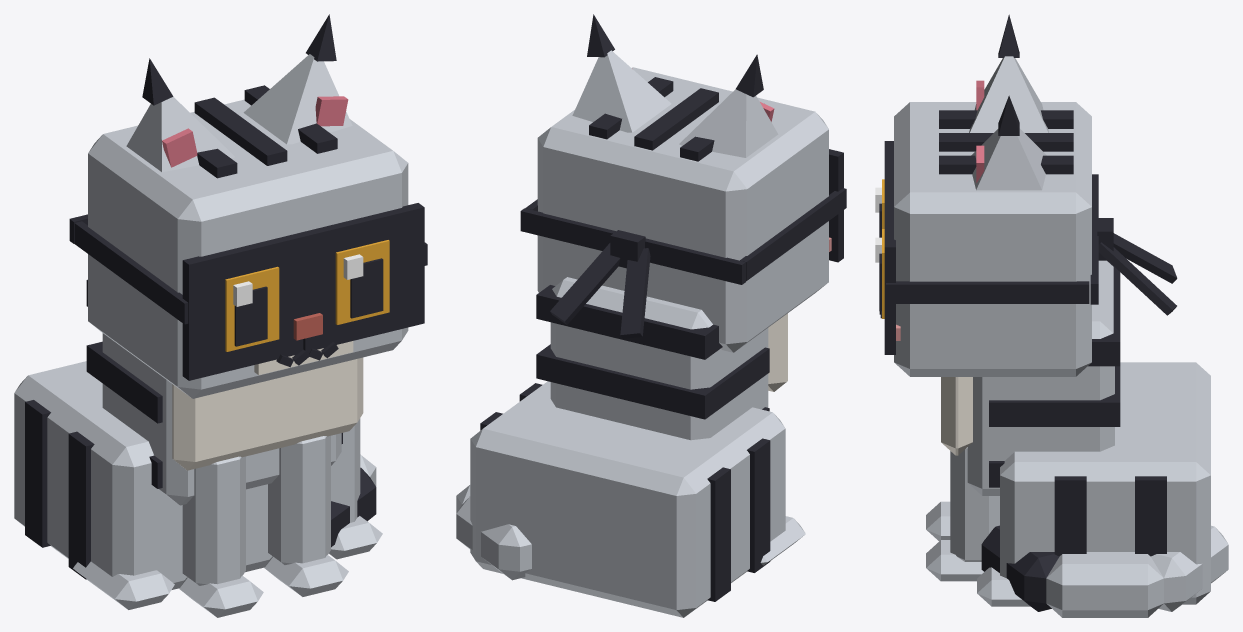
File: CatCafe_Cat_MaineCoon_Sit.glb
The picture shows the model from 3 angles, left to right: view 1: azimuth 30°, elevation 25°; view 2: azimuth 150°, elevation 25°; view 3: azimuth 270°, elevation 25°; orthographic projection. The views are drawn at different scales.
Visible parts, largest first — view 1: CatCafe_Cat_MaineCoon_Sit_Body, CatCafe_Cat_MaineCoon_Sit_Head, CatCafe_Cat_MaineCoon_Sit_Prop, CatCafe_Cat_MaineCoon_Sit_LegF2, CatCafe_Cat_MaineCoon_Sit_LegF1, CatCafe_Cat_MaineCoon_Sit_EarL, CatCafe_Cat_MaineCoon_Sit_EarR, CatCafe_Cat_MaineCoon_Sit_Eye1, CatCafe_Cat_MaineCoon_Sit_Eye2, CatCafe_Cat_MaineCoon_Sit_Tail; view 2: CatCafe_Cat_MaineCoon_Sit_Body, CatCafe_Cat_MaineCoon_Sit_Head, CatCafe_Cat_MaineCoon_Sit_Prop, CatCafe_Cat_MaineCoon_Sit_EarL, CatCafe_Cat_MaineCoon_Sit_EarR, CatCafe_Cat_MaineCoon_Sit_Tail; view 3: CatCafe_Cat_MaineCoon_Sit_Body, CatCafe_Cat_MaineCoon_Sit_Head, CatCafe_Cat_MaineCoon_Sit_Tail, CatCafe_Cat_MaineCoon_Sit_Prop, CatCafe_Cat_MaineCoon_Sit_LegF1, CatCafe_Cat_MaineCoon_Sit_EarL, CatCafe_Cat_MaineCoon_Sit_EarR, CatCafe_Cat_MaineCoon_Sit_LegF2, CatCafe_Cat_MaineCoon_Sit_Eye1.
Part boxes in pixels (bbox=[...]): CatCafe_Cat_MaineCoon_Sit_Body: bbox=[14, 279, 382, 609]; CatCafe_Cat_MaineCoon_Sit_Head: bbox=[88, 85, 408, 398]; CatCafe_Cat_MaineCoon_Sit_Prop: bbox=[69, 203, 427, 380]; CatCafe_Cat_MaineCoon_Sit_LegF2: bbox=[179, 456, 263, 617]; CatCafe_Cat_MaineCoon_Sit_LegF1: bbox=[264, 435, 348, 596]; CatCafe_Cat_MaineCoon_Sit_EarL: bbox=[243, 14, 352, 144]; CatCafe_Cat_MaineCoon_Sit_EarR: bbox=[126, 58, 234, 172]; CatCafe_Cat_MaineCoon_Sit_Eye1: bbox=[335, 240, 389, 324]; CatCafe_Cat_MaineCoon_Sit_Eye2: bbox=[225, 266, 279, 351]; CatCafe_Cat_MaineCoon_Sit_Tail: bbox=[331, 454, 376, 547]; CatCafe_Cat_MaineCoon_Sit_Body: bbox=[470, 277, 805, 617]; CatCafe_Cat_MaineCoon_Sit_Head: bbox=[537, 67, 831, 352]; CatCafe_Cat_MaineCoon_Sit_Prop: bbox=[520, 149, 846, 338]; CatCafe_Cat_MaineCoon_Sit_EarL: bbox=[572, 14, 671, 132]; CatCafe_Cat_MaineCoon_Sit_EarR: bbox=[679, 54, 778, 157]; CatCafe_Cat_MaineCoon_Sit_Tail: bbox=[456, 485, 531, 580]; CatCafe_Cat_MaineCoon_Sit_Body: bbox=[941, 260, 1210, 606]; CatCafe_Cat_MaineCoon_Sit_Head: bbox=[879, 102, 1091, 376]; CatCafe_Cat_MaineCoon_Sit_Tail: bbox=[981, 525, 1228, 617]; CatCafe_Cat_MaineCoon_Sit_Prop: bbox=[884, 141, 1177, 354]; CatCafe_Cat_MaineCoon_Sit_LegF1: bbox=[926, 447, 999, 581]; CatCafe_Cat_MaineCoon_Sit_EarL: bbox=[971, 95, 1046, 190]; CatCafe_Cat_MaineCoon_Sit_EarR: bbox=[969, 14, 1048, 132]; CatCafe_Cat_MaineCoon_Sit_LegF2: bbox=[926, 501, 950, 541]; CatCafe_Cat_MaineCoon_Sit_Eye1: bbox=[875, 229, 884, 318].
Bounding box in the file's own units: 1.36 × 2.35 × 1.51.
1 material, 1 textured.
